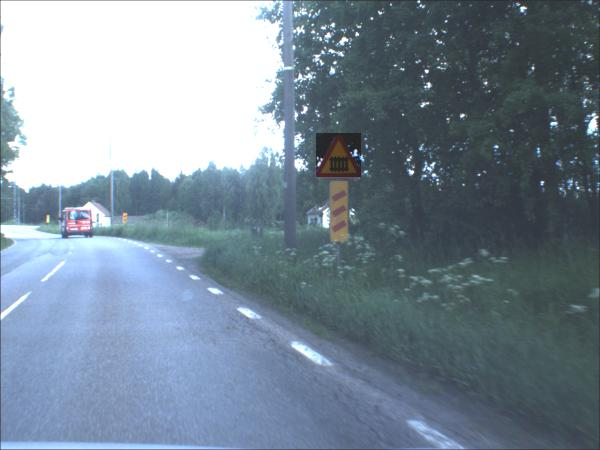WARNING: (318, 134, 364, 179)
